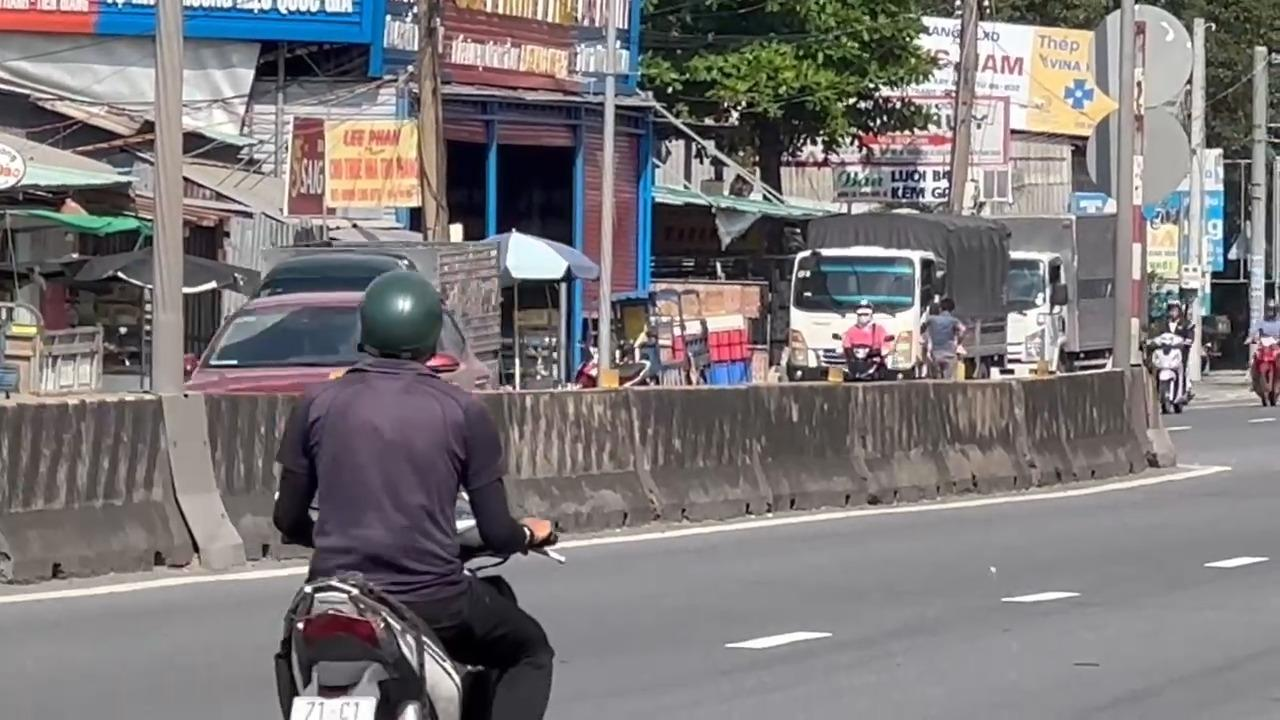bien_so: (288, 693, 377, 719)
